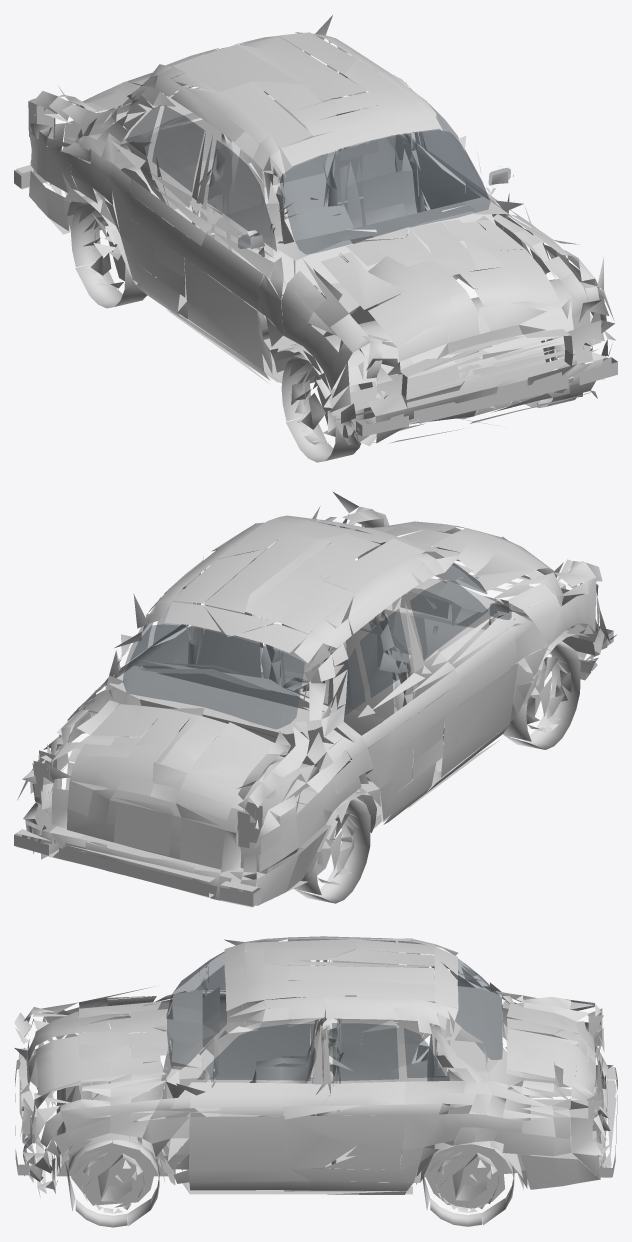
File: ambassador_lod.glb
3 views of the same model, one above another, from view 1: azimuth 30°, elevation 25°; view 2: azimuth 150°, elevation 25°; view 3: azimuth 270°, elevation 25° (orthographic). The views are drawn at different scales.
Visible parts, largest first — view 1: ambassador, glass; view 2: ambassador, glass; view 3: ambassador, glass.
Part boxes in pixels (x1,y1,x2,y2): ambassador: (14,15,617,462); glass: (123,37,510,254); ambassador: (14,491,616,907); glass: (123,523,511,729); ambassador: (14,936,617,1227); glass: (167,949,502,1085).
Bounding box in the file's own units: 2.05 × 1.68 × 4.3.
